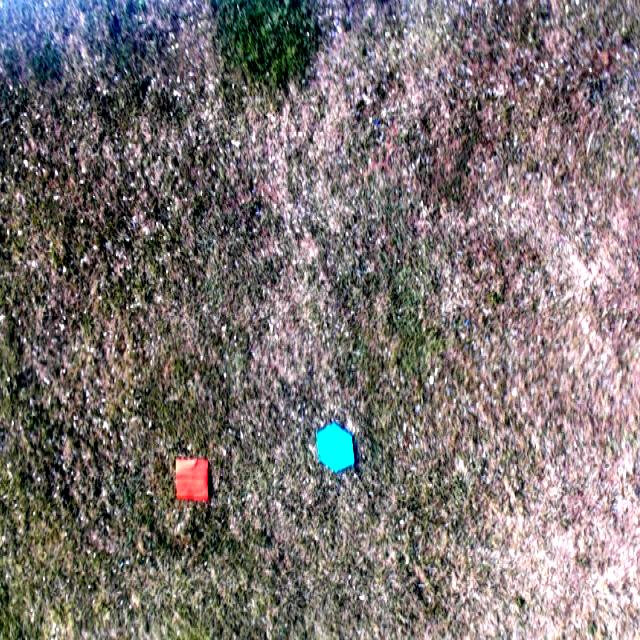blue_hexagon: (316, 422, 354, 473)
red_square: (175, 458, 210, 502)
